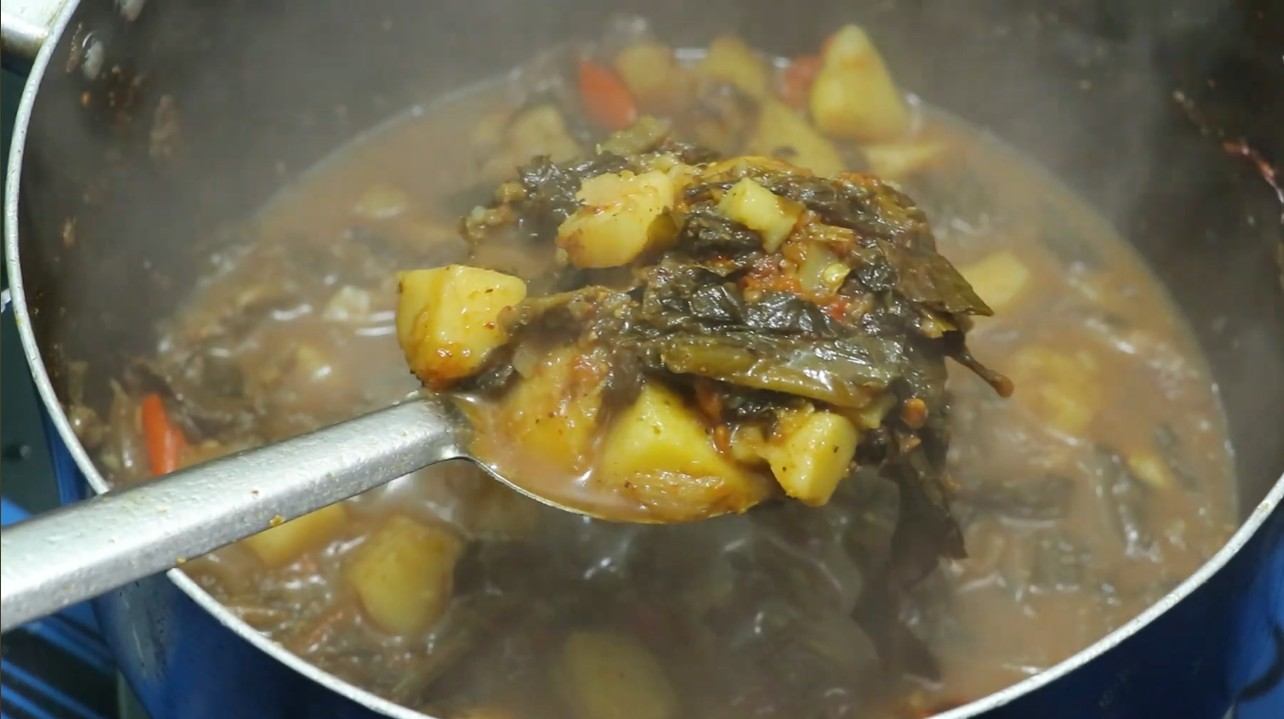gundruk: (170, 35, 1170, 605)
